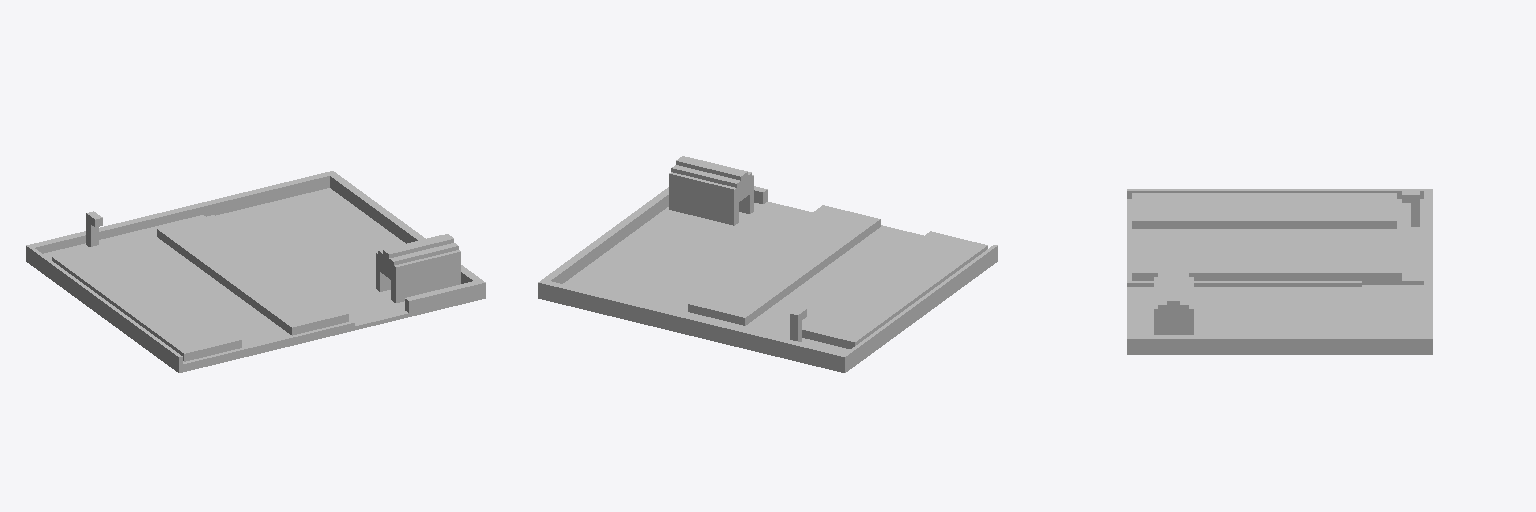
File: farm t1.obj
3 renders of one model, left to right at view 1: azimuth 30°, elevation 25°; view 2: azimuth 150°, elevation 25°; view 3: azimuth 270°, elevation 25°, orthographic.
Parts seen in each view (by area): view 1: object 1; view 2: object 1; view 3: object 1.
Part boxes in pixels (left/top/right/bottom): object 1: left=26, top=171, right=485, bottom=372; object 1: left=538, top=156, right=997, bottom=372; object 1: left=1127, top=189, right=1432, bottom=354.
Size of the model in its own units: 8 by 1.2 by 6.9.